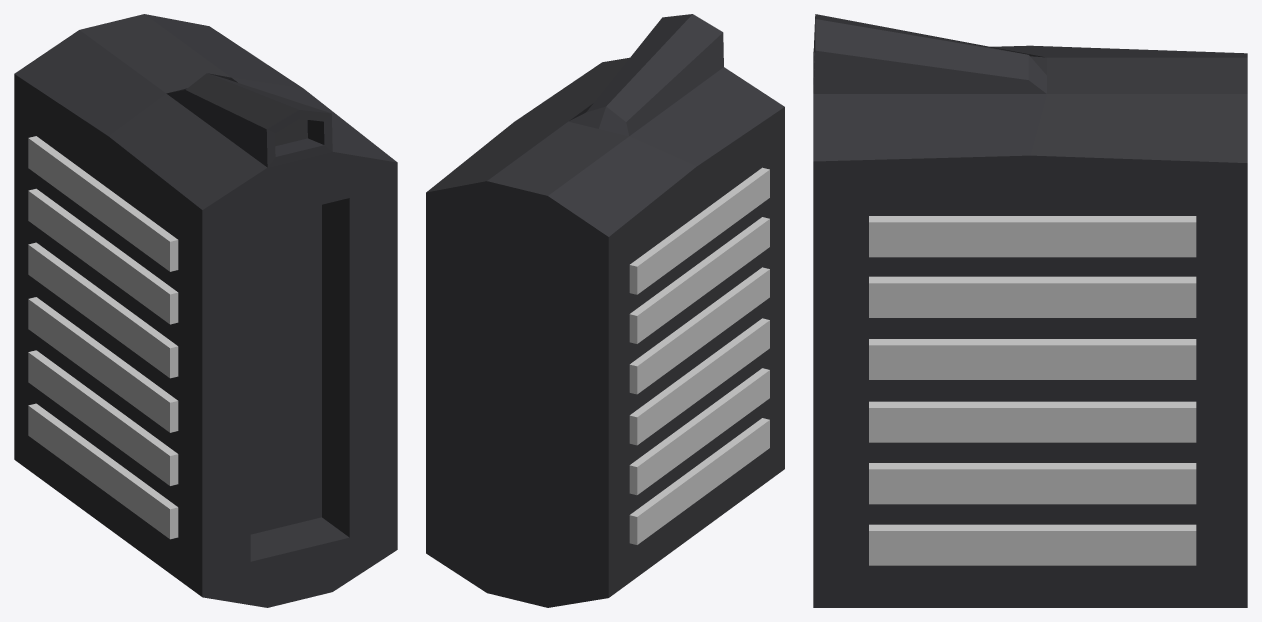
Rendered from Heater.fbx.
3 views of the same model, side by side, from view 1: azimuth 30°, elevation 25°; view 2: azimuth 150°, elevation 25°; view 3: azimuth 270°, elevation 25° (orthographic). The views are drawn at different scales.
Parts seen in each view (by area): view 1: Heater; view 2: Heater; view 3: Heater.
Boxes of the visible parts, x1,y1,x2,y2 form: Heater: (14, 14, 397, 607); Heater: (426, 14, 784, 607); Heater: (813, 14, 1247, 607).
Size of the model in its own units: 187 by 407 by 283.
